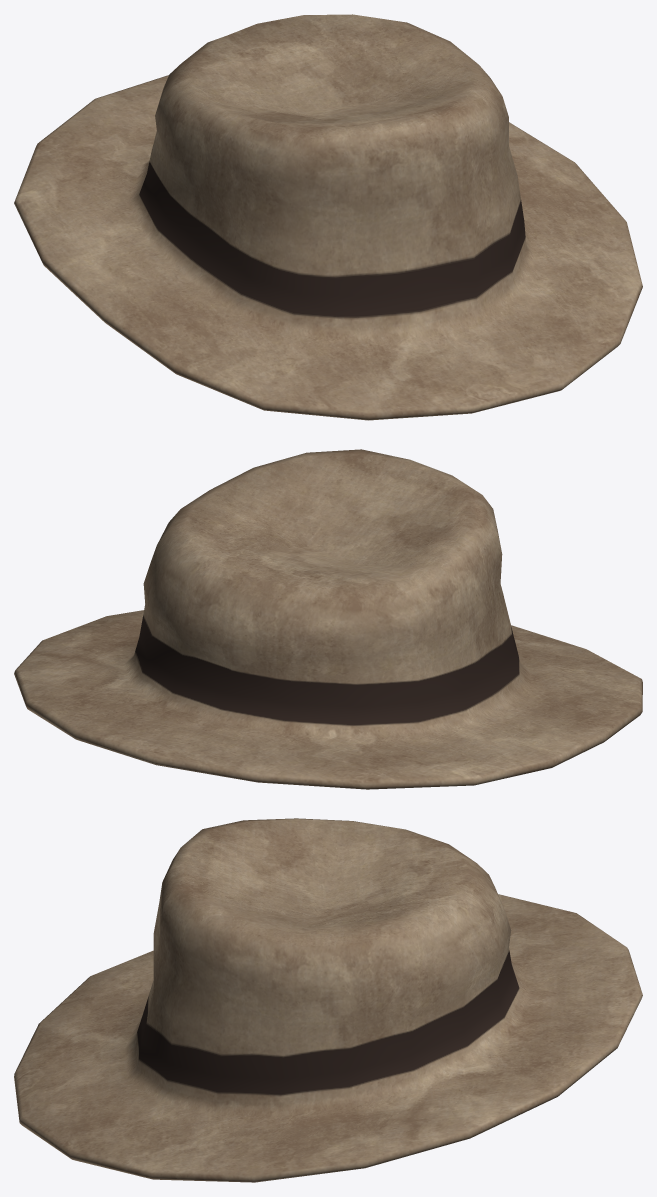
The model's file is detective_hat.glb.
The picture shows the model from 3 angles, top to bottom: view 1: azimuth 30°, elevation 25°; view 2: azimuth 150°, elevation 25°; view 3: azimuth 270°, elevation 25°; orthographic projection. The views are drawn at different scales.
Parts seen in each view (by area): view 1: SM_Hat; view 2: SM_Hat; view 3: SM_Hat.
Boxes of the visible parts, x1=… form: SM_Hat: x1=14, y1=14, x2=642, y2=420; SM_Hat: x1=14, y1=449, x2=642, y2=789; SM_Hat: x1=14, y1=818, x2=642, y2=1182.
Size of the model in its own units: 0.2909 by 0.1225 by 0.3114.
Materials: 1 (1 with a texture image).
